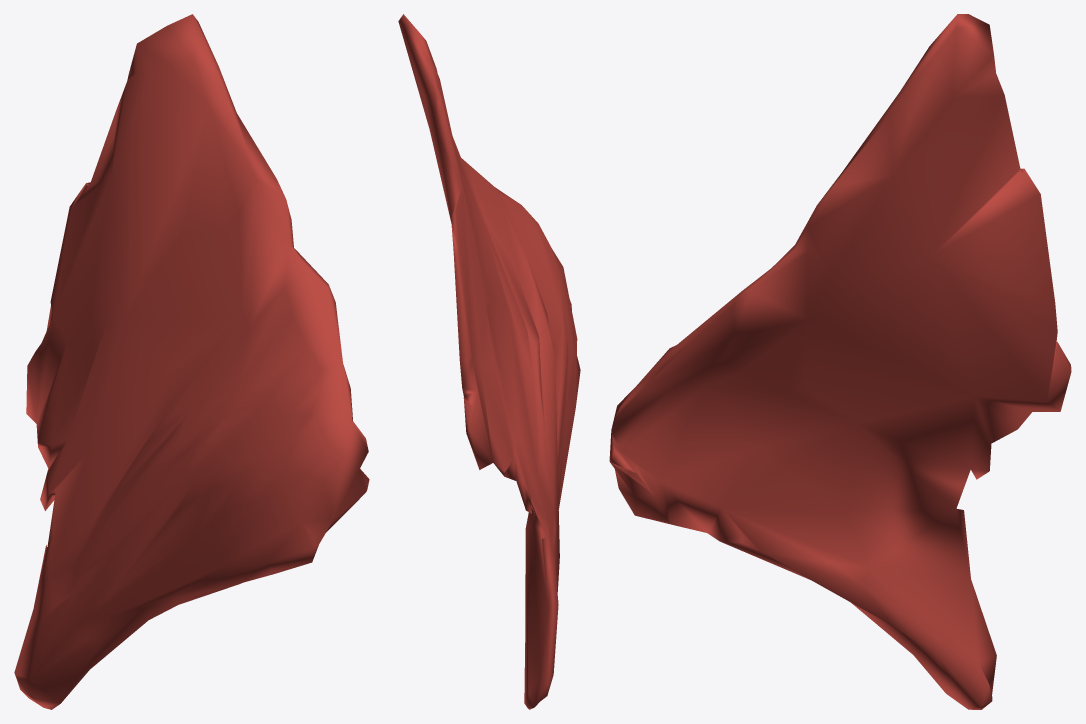
The model's file is musculos-nasalis-muscle-r.glb.
The picture shows the model from 3 angles, left to right: view 1: azimuth 30°, elevation 25°; view 2: azimuth 150°, elevation 25°; view 3: azimuth 270°, elevation 25°; orthographic projection. The views are drawn at different scales.
Visible parts, largest first — view 1: Nasalis muscle.r; view 2: Nasalis muscle.r; view 3: Nasalis muscle.r.
Part boxes in pixels (x1=…): Nasalis muscle.r: x1=14, y1=14, x2=369, y2=709; Nasalis muscle.r: x1=398, y1=14, x2=580, y2=709; Nasalis muscle.r: x1=609, y1=14, x2=1071, y2=709.
Bounding box in the file's own units: 0.0132 × 0.0403 × 0.0218.
